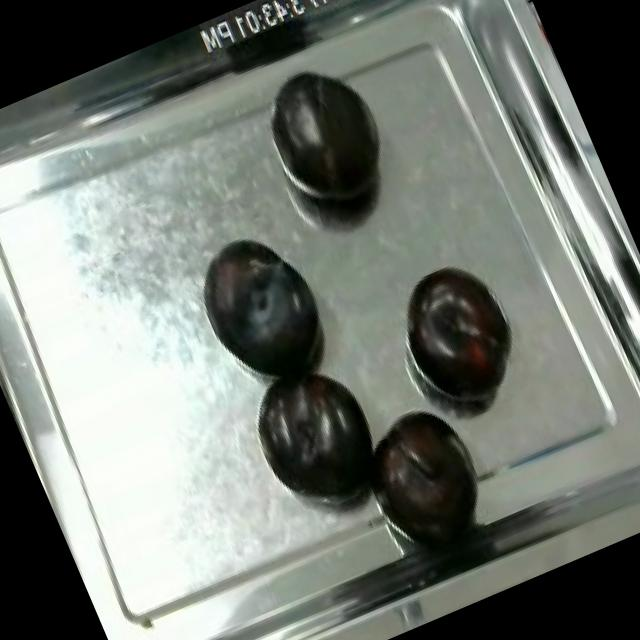Fruit: (178, 211, 347, 403), (250, 46, 408, 228), (238, 348, 398, 523), (387, 248, 532, 414), (352, 392, 492, 542)
